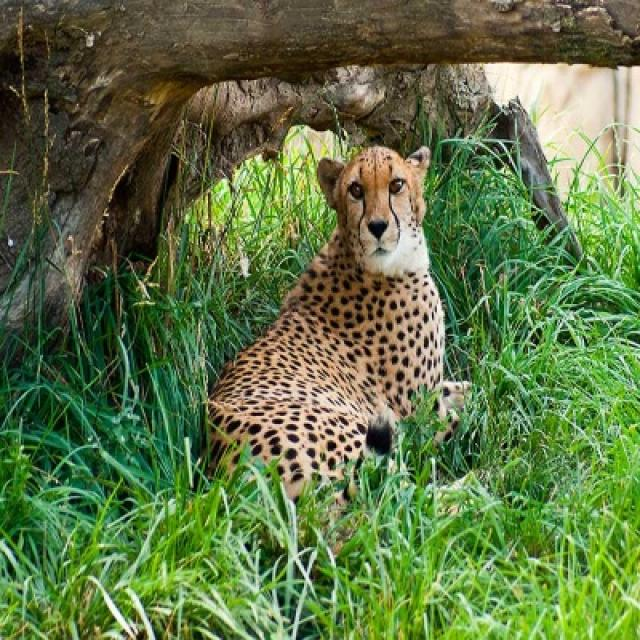Cheetah: (210, 146, 469, 501)
